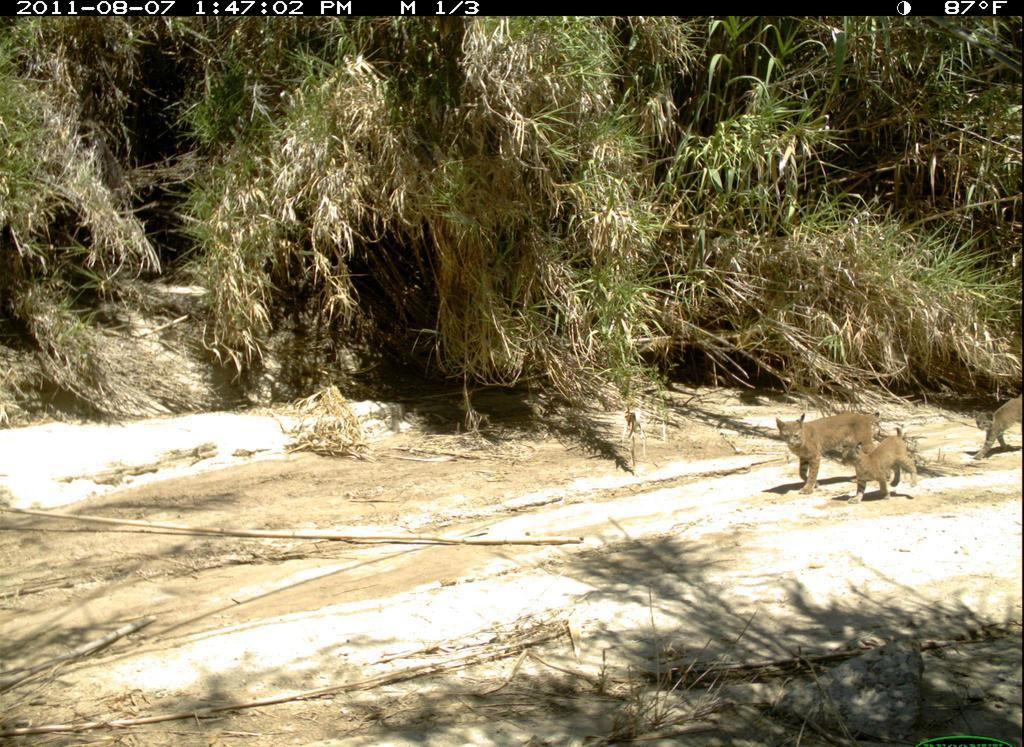bobcat: (772, 402, 888, 502), (838, 427, 924, 499), (969, 390, 1024, 463)
